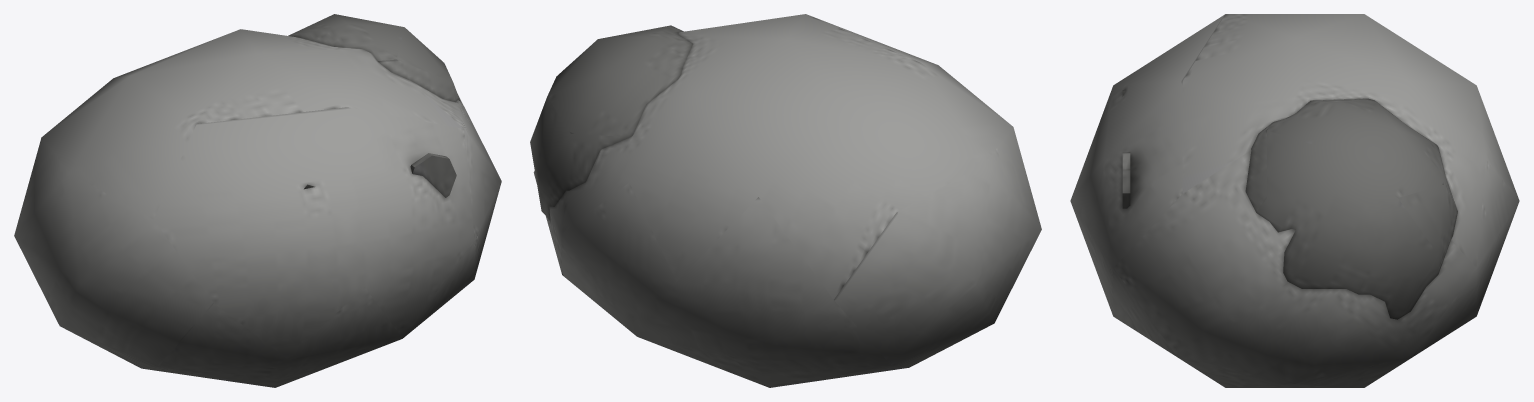
The model's file is roca_lunar.glb.
3 views of the same model, side by side, from view 1: azimuth 30°, elevation 25°; view 2: azimuth 150°, elevation 25°; view 3: azimuth 270°, elevation 25° (orthographic). The views are drawn at different scales.
Parts seen in each view (by area): view 1: roca_lunar; view 2: roca_lunar; view 3: roca_lunar.
Part boxes in pixels (<box>): roca_lunar: <box>14,14,501,387</box>; roca_lunar: <box>530,14,1041,387</box>; roca_lunar: <box>1070,14,1519,387</box>.
Size of the model in its own units: 1.37 by 0.96 by 1.2.
1 material, 1 textured.
